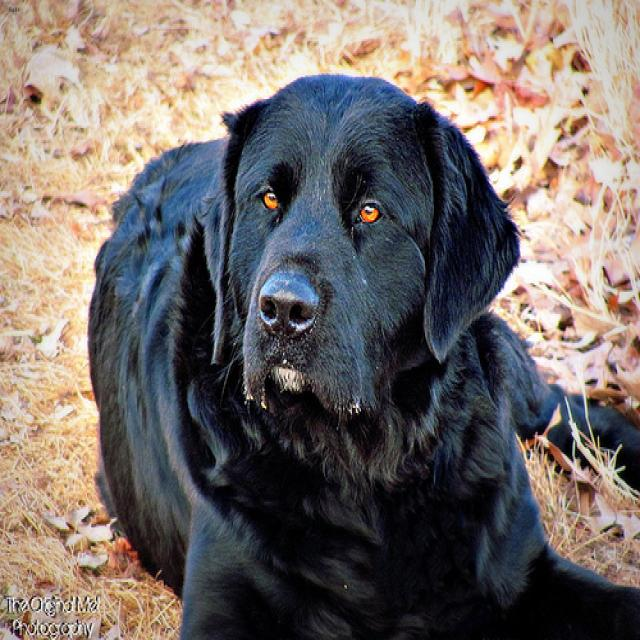dog-newfoundland: (79, 65, 637, 637)
